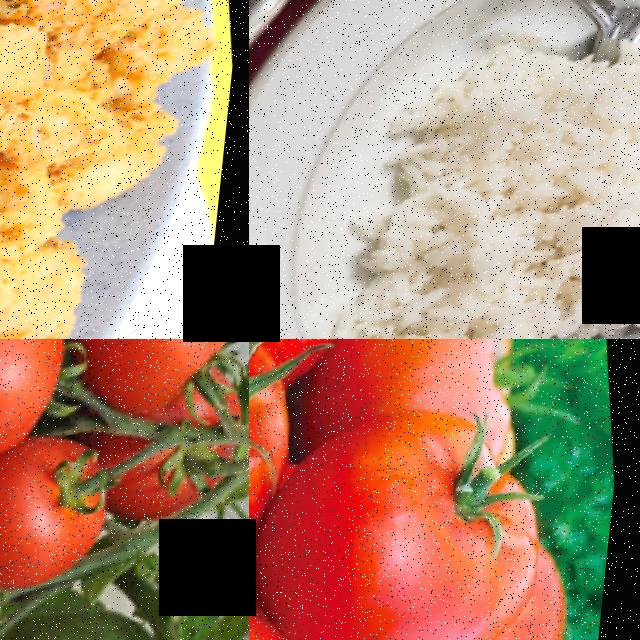tomato: (249, 385, 583, 640), (249, 339, 332, 637), (0, 428, 132, 610), (58, 339, 249, 435), (0, 339, 91, 487)
white rice: (328, 61, 640, 339)
